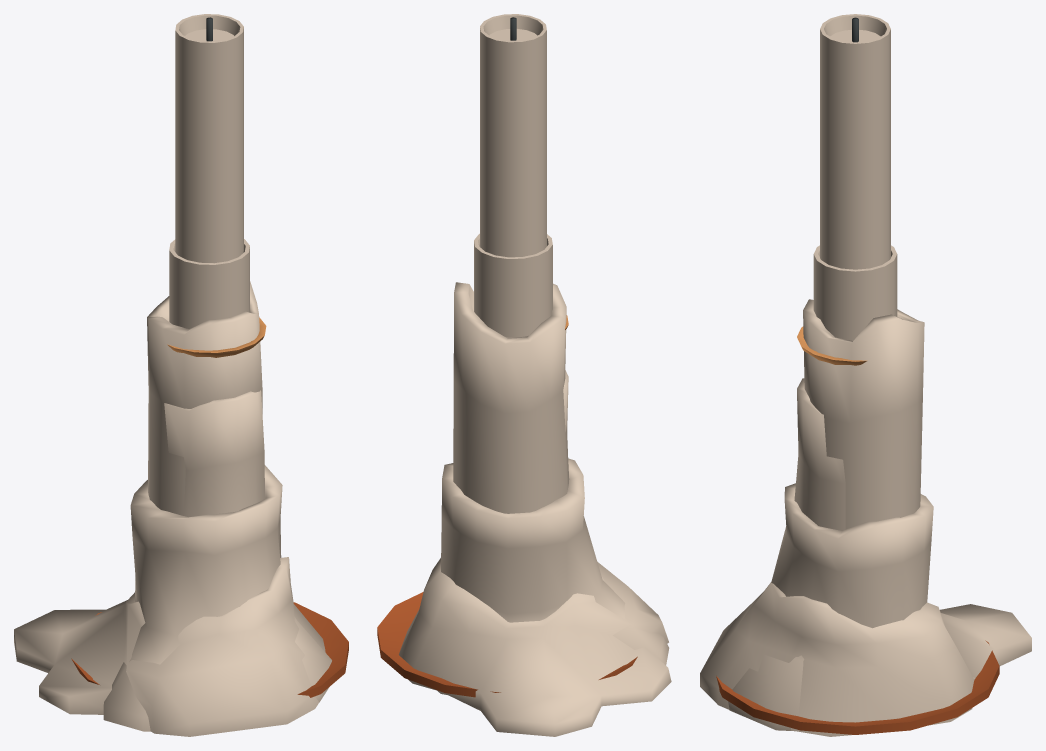
The model's file is MOD_Candles.fbx.
3 renders of one model, left to right at view 1: azimuth 30°, elevation 25°; view 2: azimuth 150°, elevation 25°; view 3: azimuth 270°, elevation 25°, orthographic. The views are drawn at different scales.
Visible parts, largest first — view 1: MOD_Candle_4, MOD_Candle_3, MOD_CandleHolder_0, MOD_Candle_1, MOD_Candle_2, MOD_CandleHolder_1; view 2: MOD_Candle_4, MOD_Candle_1, MOD_Candle_3, MOD_CandleHolder_0, MOD_CandleHolder_1; view 3: MOD_Candle_4, MOD_Candle_1, MOD_CandleHolder_0, MOD_Candle_3, MOD_CandleHolder_1, MOD_Candle_2.
Boxes of the visible parts, box(x1,y1,x2,y2) form: MOD_Candle_4: box(14, 557, 325, 736); MOD_Candle_3: box(103, 465, 331, 731); MOD_CandleHolder_0: box(167, 14, 266, 357); MOD_Candle_1: box(147, 281, 262, 515); MOD_Candle_2: box(164, 390, 264, 517); MOD_CandleHolder_1: box(71, 239, 348, 697); MOD_Candle_4: box(399, 558, 671, 736); MOD_Candle_1: box(453, 282, 568, 513); MOD_Candle_3: box(437, 458, 669, 694); MOD_CandleHolder_0: box(480, 14, 568, 329); MOD_CandleHolder_1: box(377, 233, 637, 697); MOD_Candle_4: box(700, 582, 1031, 736); MOD_Candle_1: box(803, 299, 924, 529); MOD_CandleHolder_0: box(797, 14, 890, 365); MOD_Candle_3: box(728, 483, 975, 731); MOD_CandleHolder_1: box(716, 245, 999, 734); MOD_Candle_2: box(794, 378, 845, 530).
Size of the model in its own units: 24.52 by 55 by 24.73.
